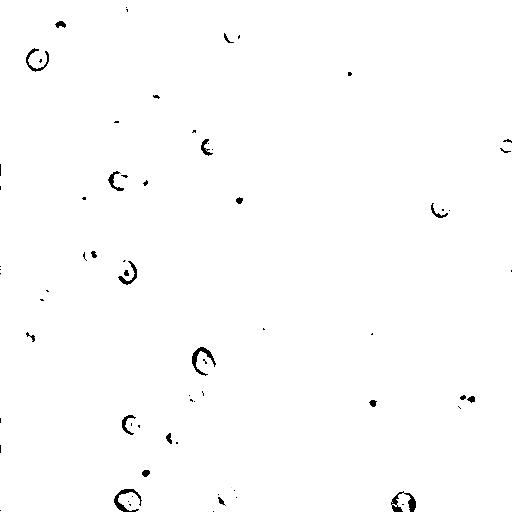micro-algae: (268, 6, 350, 86), (100, 351, 168, 420), (149, 133, 203, 183), (173, 116, 218, 159), (101, 161, 138, 198), (448, 384, 488, 417), (71, 184, 105, 221), (89, 463, 124, 498), (0, 124, 19, 185), (134, 171, 166, 207), (395, 188, 427, 222), (75, 384, 107, 416), (249, 37, 275, 71), (367, 491, 408, 512), (102, 116, 132, 144), (32, 281, 60, 310), (48, 12, 78, 39), (191, 345, 216, 377), (111, 258, 139, 285), (113, 488, 143, 512), (25, 47, 52, 73), (332, 62, 360, 87), (19, 327, 43, 354), (143, 433, 169, 457), (390, 490, 418, 512), (360, 319, 384, 343), (82, 240, 105, 264), (430, 194, 452, 219), (260, 103, 283, 126), (251, 317, 274, 340), (182, 383, 206, 405), (360, 393, 385, 414), (121, 413, 143, 436), (217, 485, 238, 508), (123, 0, 145, 21), (425, 153, 446, 174), (199, 137, 221, 157), (394, 0, 430, 11), (223, 25, 242, 45), (500, 253, 512, 280), (165, 429, 184, 446), (138, 464, 156, 481), (230, 193, 251, 207), (446, 79, 462, 96), (499, 138, 512, 154), (1, 423, 9, 443)
